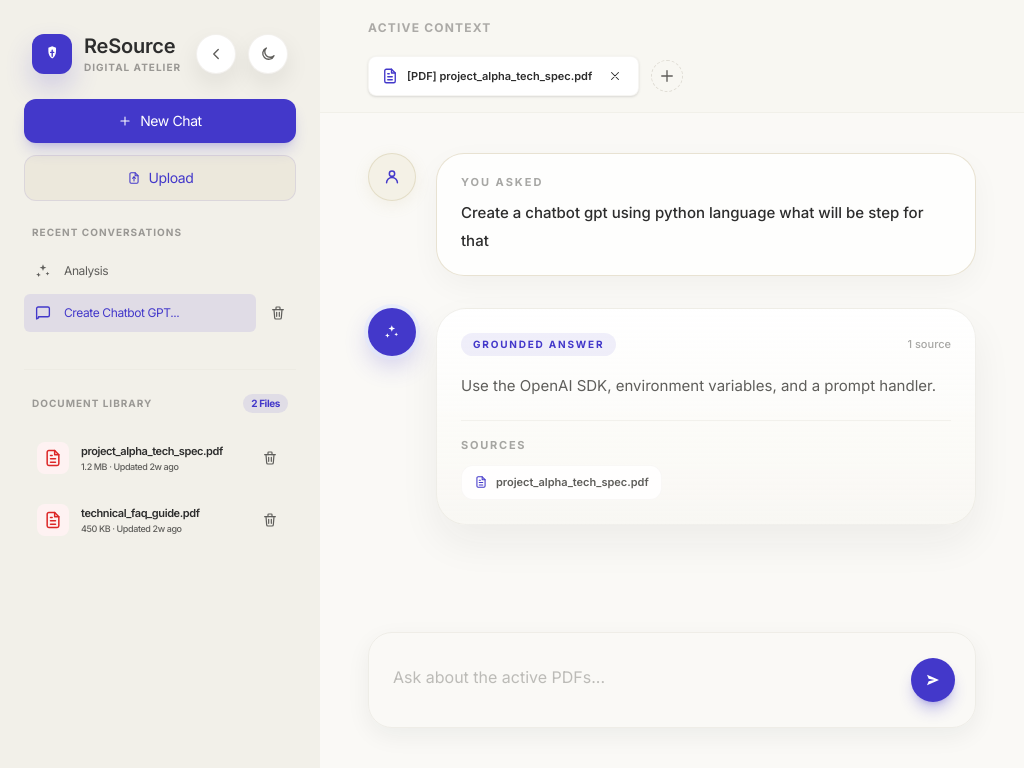
it: ResourceWorkspace › deletes a document from the library and removes it from active context
Expected: the text "Use the OpenAI SDK, environment variables, and a prompt handler." is shown, [461, 376, 936, 394]
Expected: the text "[PDF] project_alpha_tech_spec.pdf" is shown, [407, 68, 592, 84]
Click the button named "Delete document project_alpha_tech_spec.pdf" at coordinates (270, 458), box [252, 440, 288, 476]
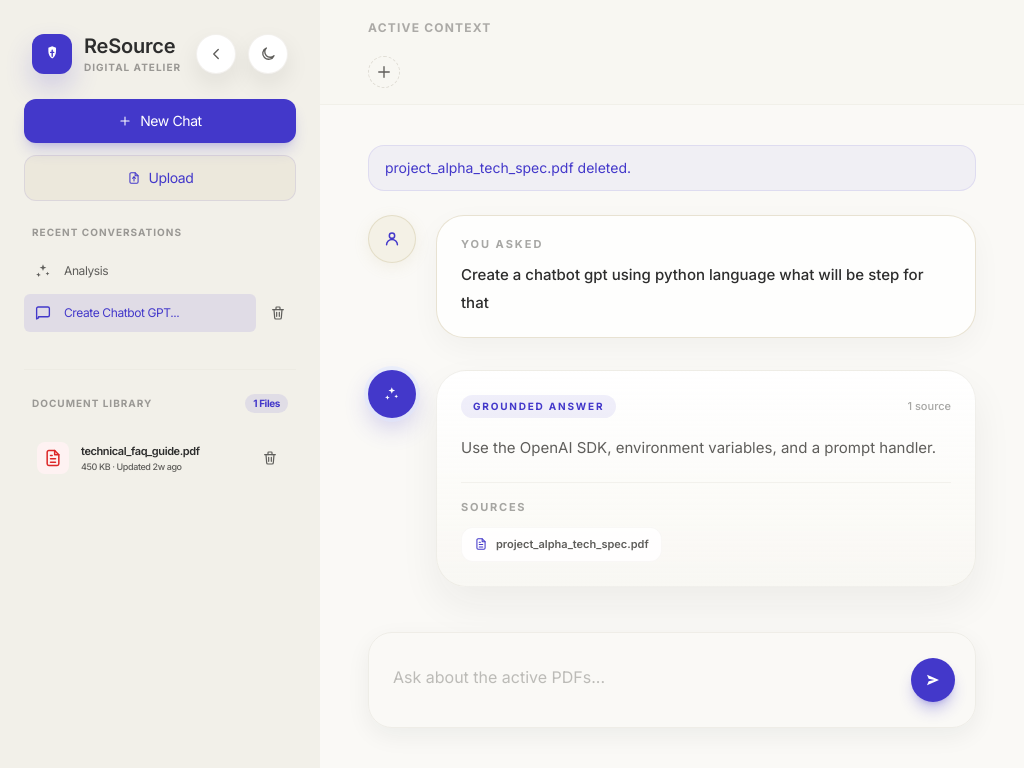
Now the text "[PDF] project_alpha_tech_spec.pdf" is gone
Now the text "project_alpha_tech_spec.pdf deleted." is shown, box [368, 145, 976, 191]
